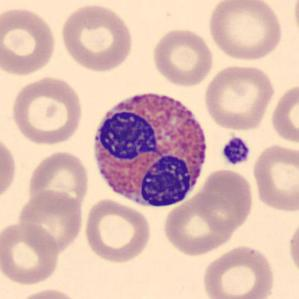Eosinophil: (87, 83, 213, 214)
Platelets: (220, 136, 252, 166)
RBC: (8, 74, 86, 147), (58, 1, 135, 72), (201, 62, 276, 132), (161, 191, 238, 256), (206, 0, 285, 62), (81, 197, 153, 264), (15, 188, 86, 254), (200, 243, 277, 299), (0, 4, 58, 78), (25, 149, 91, 214), (0, 220, 61, 286), (149, 27, 215, 88), (196, 167, 255, 232), (250, 142, 299, 214), (269, 81, 298, 147), (0, 131, 18, 205), (12, 286, 84, 299), (285, 216, 299, 282), (291, 0, 299, 46)
